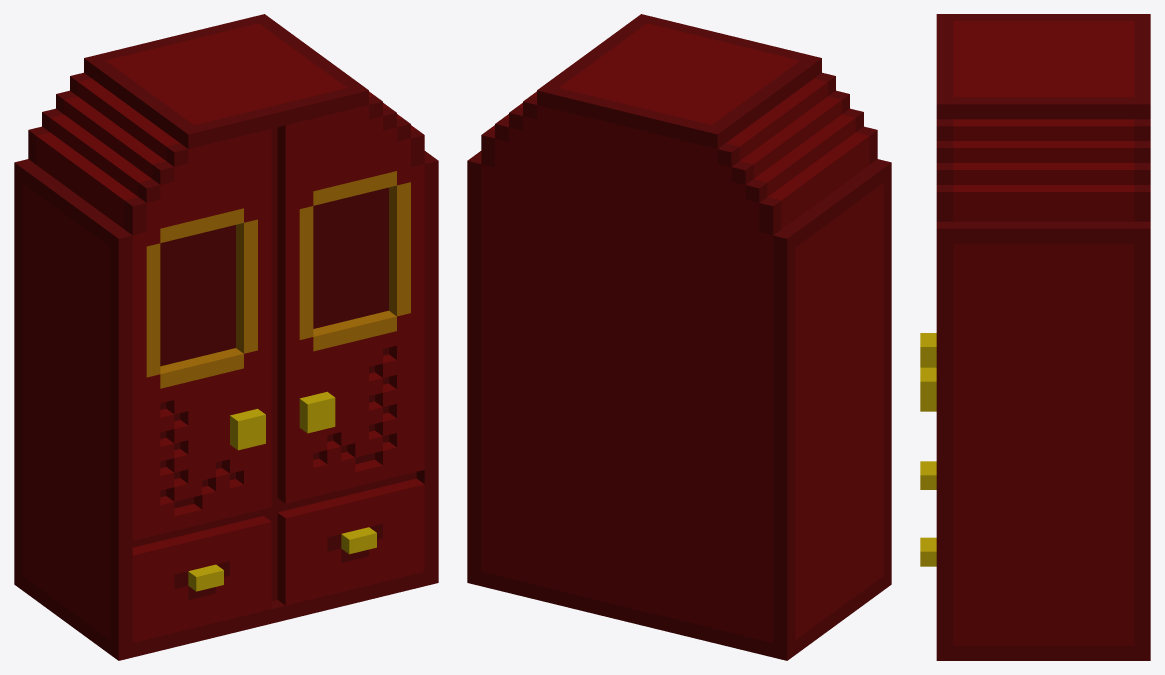
The model's file is woodWardrobe.obj.
The picture shows the model from 3 angles, left to right: view 1: azimuth 30°, elevation 25°; view 2: azimuth 150°, elevation 25°; view 3: azimuth 270°, elevation 25°; orthographic projection. The views are drawn at different scales.
Visible parts, largest first — view 1: model_0; view 2: model_0; view 3: model_0.
Boxes of the visible parts, bbox=[...] form: model_0: bbox=[14, 14, 438, 660]; model_0: bbox=[467, 14, 891, 660]; model_0: bbox=[920, 14, 1150, 660].
Size of the model in its own units: 2.3 by 3.5 by 1.4.
